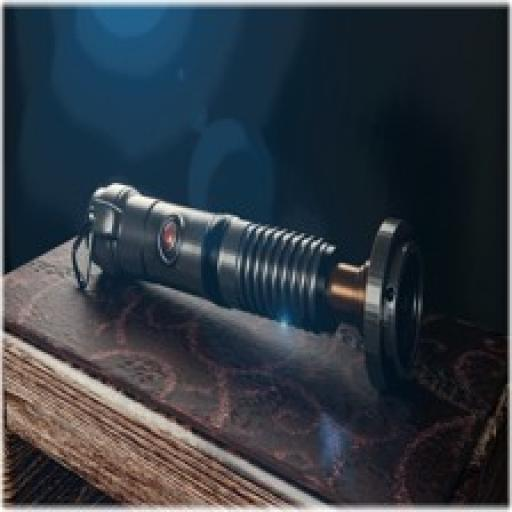lightsaber: (76, 173, 430, 395)
